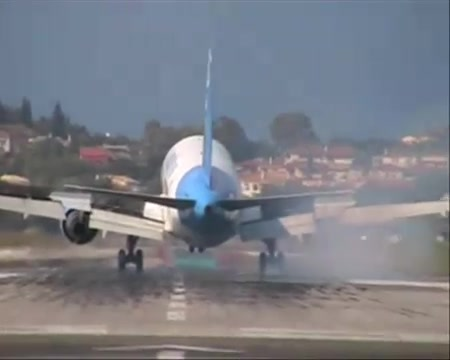aeroplane: (2, 45, 450, 274)
